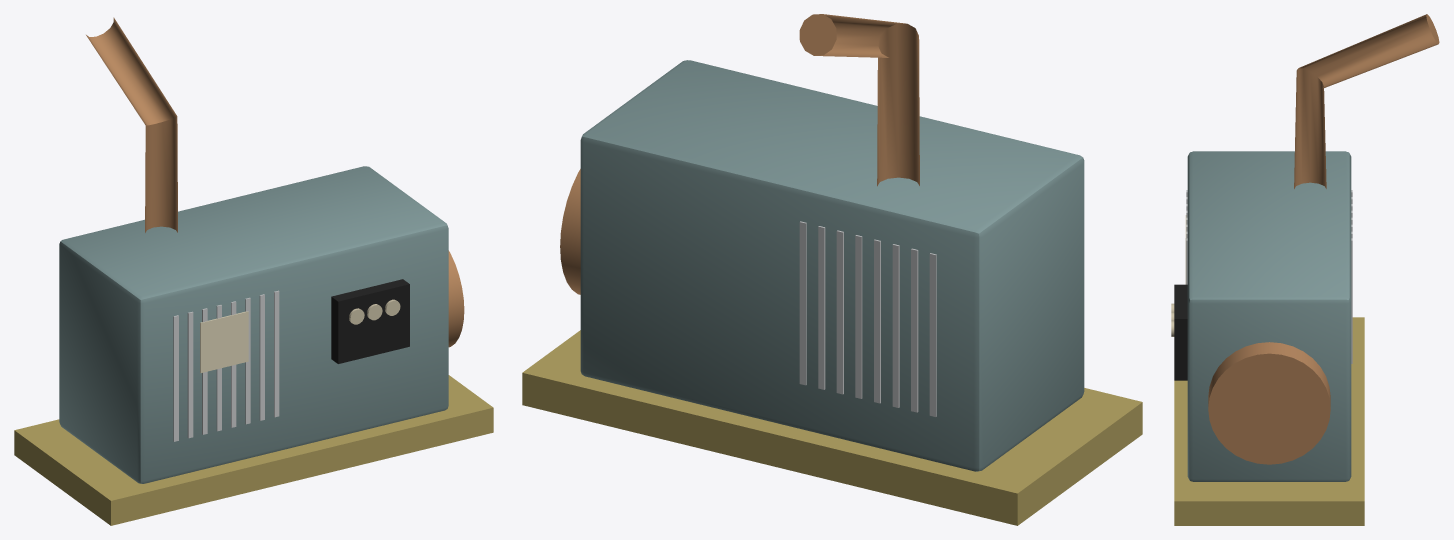
File: generator.glb
3 renders of one model, left to right at view 1: azimuth 30°, elevation 25°; view 2: azimuth 150°, elevation 25°; view 3: azimuth 270°, elevation 25°, orthographic. The views are drawn at different scales.
Visible parts, largest first — view 1: generator; view 2: generator; view 3: generator.
Part boxes in pixels (x1,y1,x2,y2): generator: (14, 17, 493, 525); generator: (522, 14, 1142, 525); generator: (1171, 14, 1439, 525).
Size of what is drawn, in the model's own units: 3.2 by 3.11 by 1.97.
